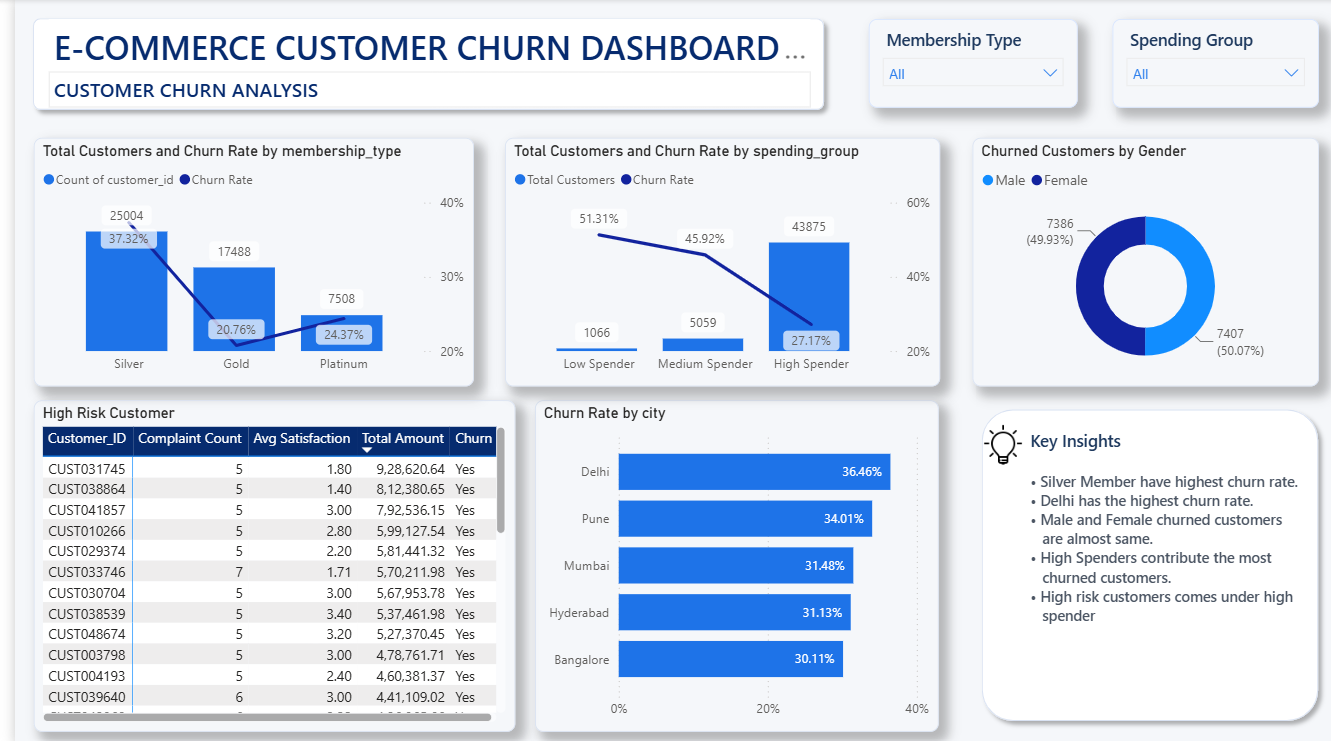

What the dashboard file says about the page in this screenshot:
{"tool":"powerbi","page":{"name":"Customer Churn Analysis","canvas":[1280,720],"ordinal":1},"visuals":[{"type":"lineClusteredColumnComboChart","title":"Total Customers and Churn Rate by membership_type","fields":{"Category":["public customers.membership_type"],"Y":["CountNonNull(public churn_status.customer_id)"],"Y2":["Measure Table.Churn Rate"]},"box":[18.1,133.9,424.7,240.1],"z":0},{"type":"clusteredBarChart","title":"Churn Rate  by city","fields":{"Category":["public customers.city"],"Y":["Measure Table.Churn Rate"]},"box":[501.9,387.3,389.7,319.7],"z":1000},{"type":"donutChart","fields":{"Category":["public customers.gender"],"Y":["Measure Table.Churned Customers"]},"box":[924.1,133.9,334.2,240.1],"z":2000},{"type":"lineStackedColumnComboChart","fields":{"Category":["public vw_customer_spending.spending_group"],"Y":["Measure Table.Total Customers"],"Y2":["Measure Table.Churn Rate"]},"box":[473.5,133.9,419.8,240.1],"z":3000},{"type":"pivotTable","title":"High Risk Customer","fields":{"Rows":["public customers.customer_id"],"Values":["Sum(public vw_customer_complaints.complaint_count)","Sum(public vw_customer_complaints.avg_satisfaction)","Sum(public transactions.amount)","Min(public churn_status.status)"]},"box":[18.1,387.3,464.5,319.7],"z":4000},{"type":"shape","box":[8.6,9.8,781.4,106.4],"z":5000},{"type":"textbox","box":[33,19.6,734.9,69.7],"z":6000},{"type":"textbox","box":[33,69.7,734.9,35.5],"z":7000},{"type":"slicer","fields":{"Values":["public vw_customer_spending.spending_group"]},"box":[1059.3,19.3,199.1,85.7],"z":8000},{"type":"shape","box":[924.1,387.3,342.6,318.5],"z":9000},{"type":"image","box":[924.1,410.2,59.1,41],"z":10000},{"type":"textbox","box":[974.8,410.2,259.4,41],"z":11000},{"type":"textbox","box":[974.8,451.2,272.7,232.8],"z":12000},{"type":"slicer","fields":{"Values":["public customers.membership_type"]},"box":[824,19.3,201.5,85.7],"z":13000}]}

Visuals, with their boxes in screenshot pixels (x1, y1, x2, y2), scaled from the page's 1280x720 canvas onto the 1331x741 screenshot:
"Total Customers and Churn Rate by membership_type" lineClusteredColumnComboChart: bbox(19, 138, 460, 385)
"Churn Rate  by city" clusteredBarChart: bbox(522, 399, 927, 728)
donutChart - public customers.gender x Measure Table.Churned Customers: bbox(961, 138, 1308, 385)
lineStackedColumnComboChart - public vw_customer_spending.spending_group x Measure Table.Total Customers: bbox(492, 138, 929, 385)
"High Risk Customer" pivotTable: bbox(19, 399, 502, 728)
shape: bbox(9, 10, 821, 120)
textbox: bbox(34, 20, 798, 92)
textbox: bbox(34, 72, 798, 108)
slicer - public vw_customer_spending.spending_group: bbox(1102, 20, 1309, 108)
shape: bbox(961, 399, 1317, 726)
image: bbox(961, 422, 1022, 464)
textbox: bbox(1014, 422, 1283, 464)
textbox: bbox(1014, 464, 1297, 704)
slicer - public customers.membership_type: bbox(857, 20, 1066, 108)
